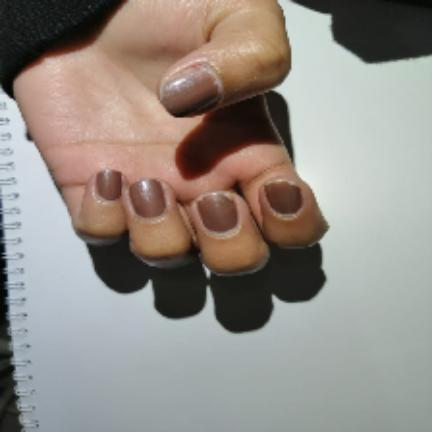Nail: (159, 63, 223, 116), (197, 192, 238, 232), (264, 179, 302, 216), (130, 179, 165, 218), (96, 170, 122, 200)
